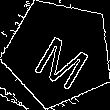M_NE: (26, 20, 92, 87)
